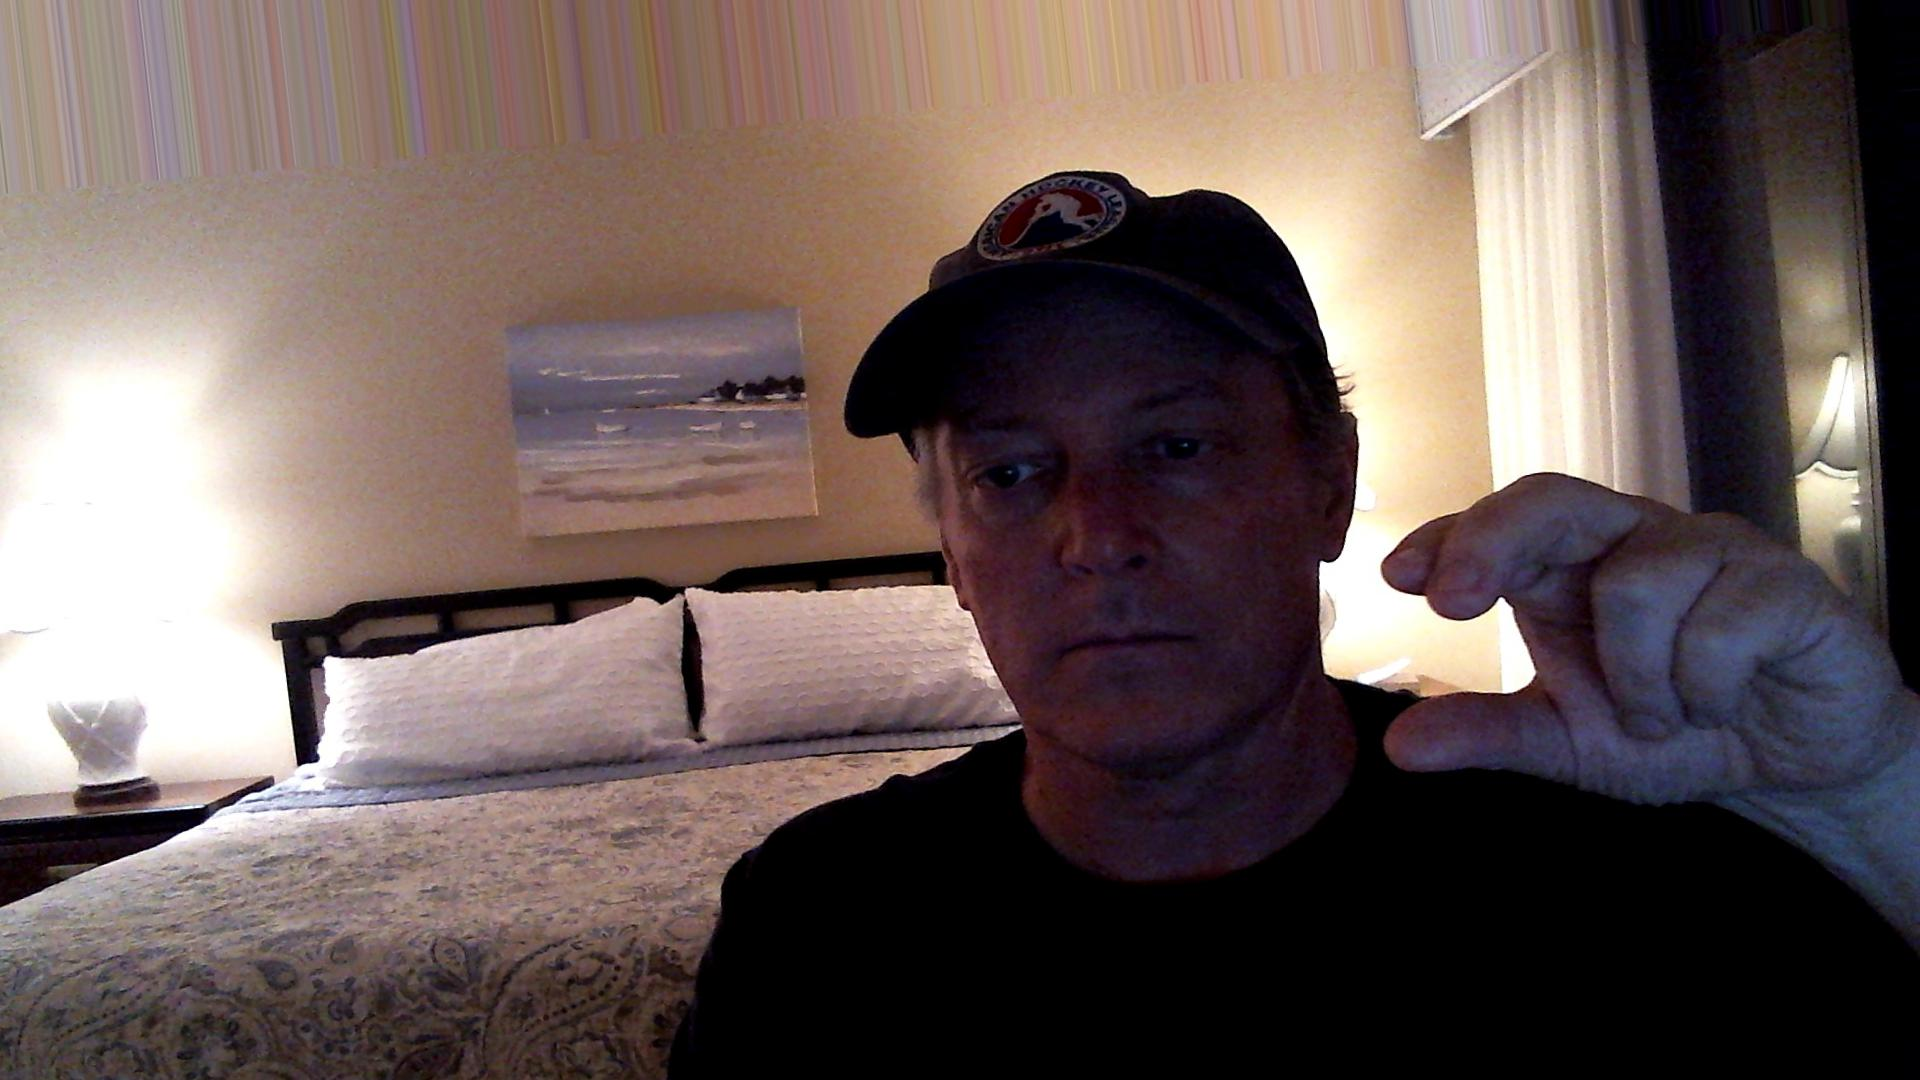No: (1345, 450, 1911, 852)
